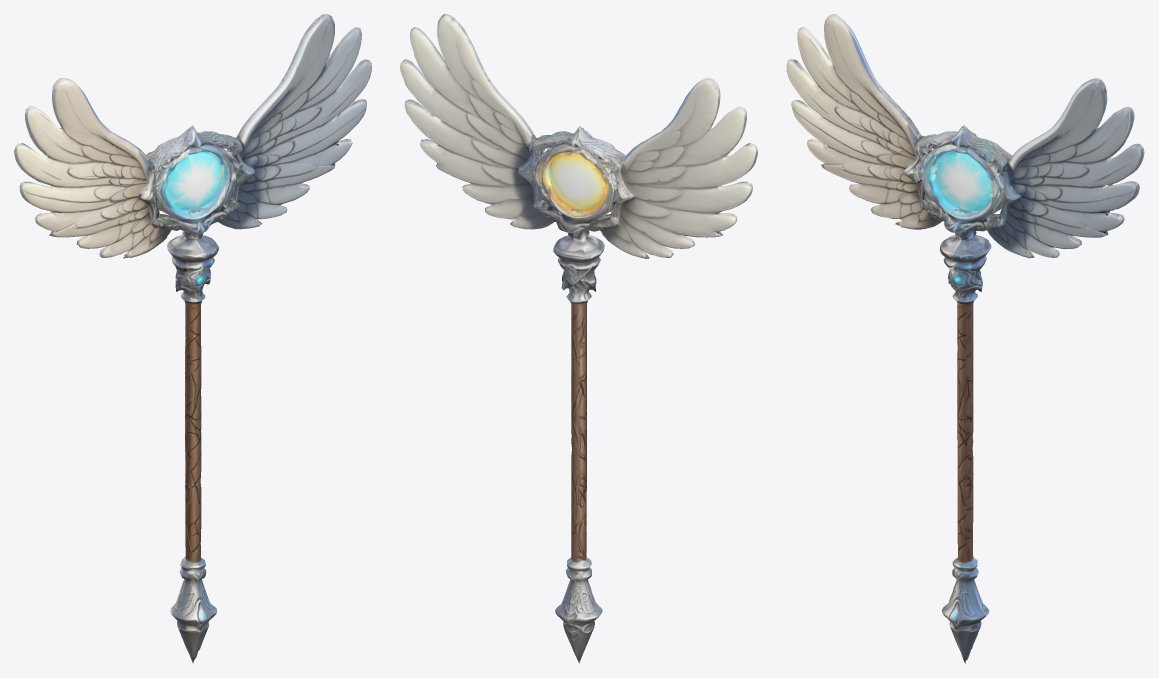
The model's file is angels-feather-of-grace.glb.
The picture shows the model from 3 angles, left to right: view 1: azimuth 30°, elevation 25°; view 2: azimuth 150°, elevation 25°; view 3: azimuth 330°, elevation 25°; orthographic projection.
Bounding box in the file's own units: 1.21 × 2 × 0.1591.
Materials: 1 (1 with a texture image).
